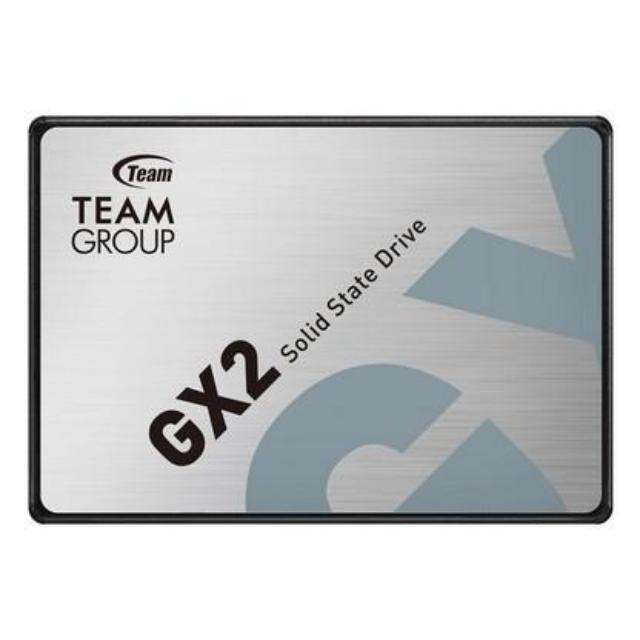DISK: (19, 107, 621, 538)
